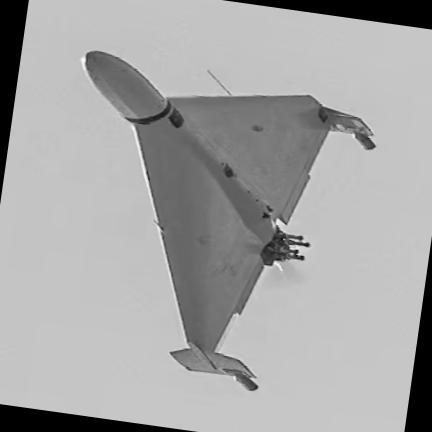Shahed: (82, 50, 374, 390)
